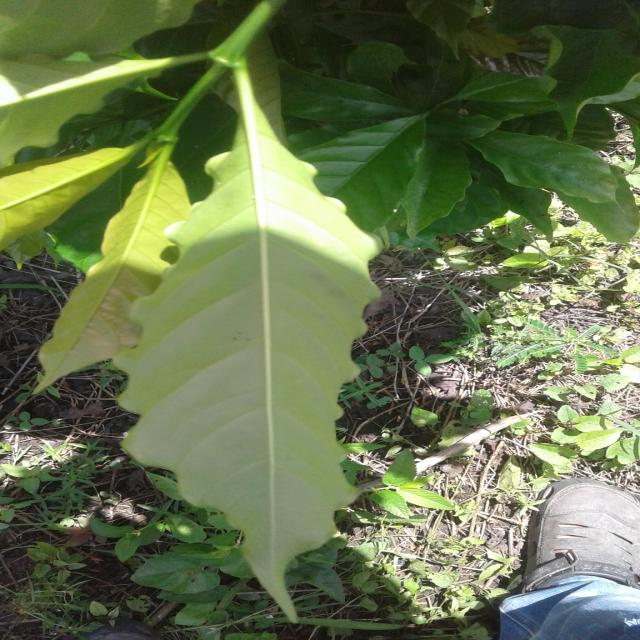Sanas: (80, 100, 380, 617)
